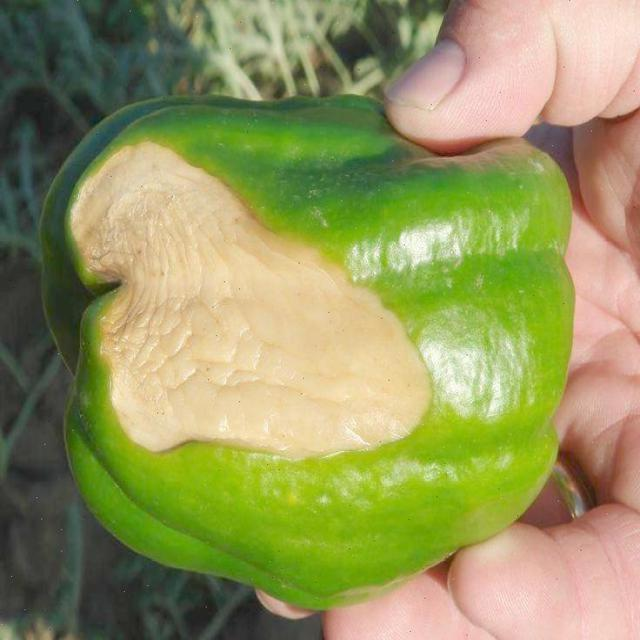Sunscald Fruit: (52, 90, 291, 341)
